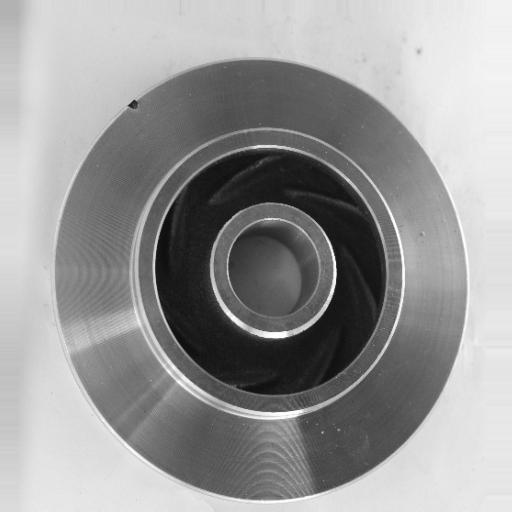crack: (117, 94, 146, 114)
unpolished_casting: (54, 54, 470, 501)
